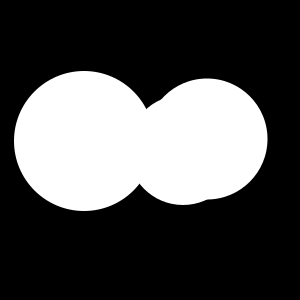rectangle: (14, 71, 154, 211), (146, 78, 268, 200), (128, 95, 238, 205)
